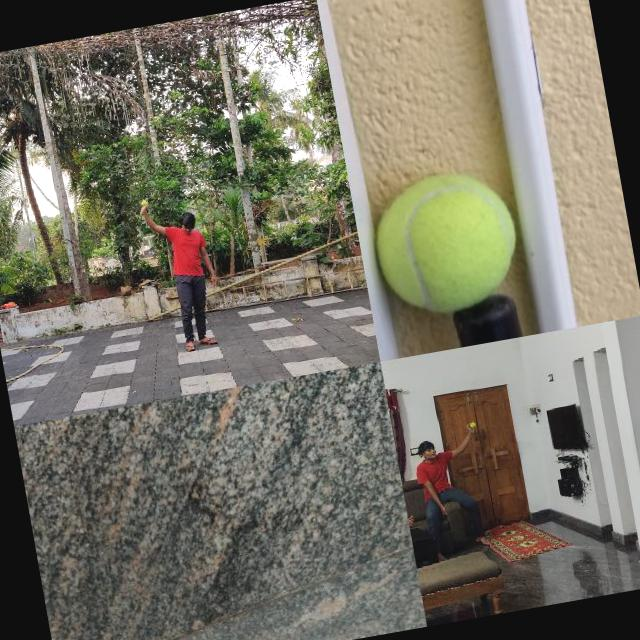Tennis Ball: (364, 162, 528, 324), (470, 422, 477, 428), (140, 200, 146, 206)
